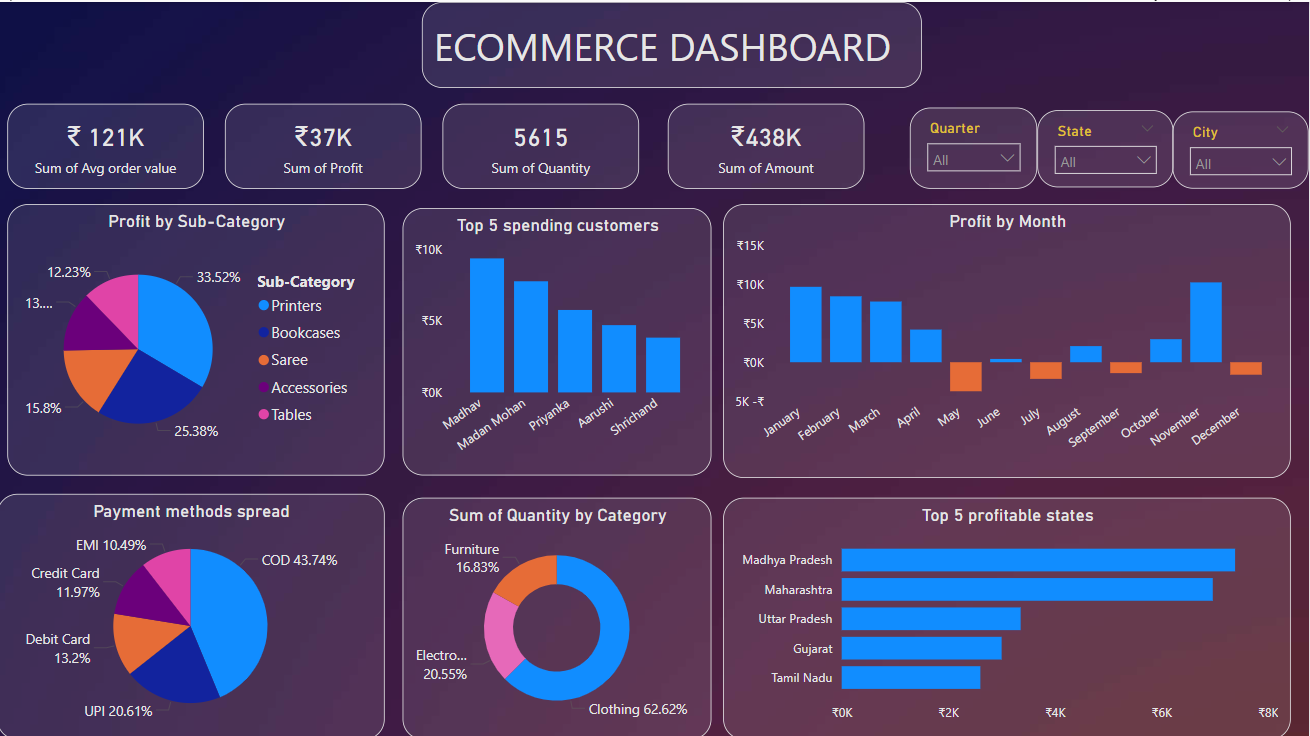

Layout of this report page (visuals, bound fields, positions):
{"tool":"powerbi","page":{"name":"Page 1","canvas":[1280,720],"ordinal":0},"visuals":[{"type":"columnChart","title":"Profit by Month","fields":{"Y":["Details.Profit"],"Category":["Orders.Order Date.Variation.Date Hierarchy.Month"]},"box":[708.5,197.2,554,267.6],"z":0},{"type":"pieChart","title":" Profit by Sub-Category","fields":{"Category":["Details.Sub-Category"],"Y":["Details.Profit"]},"box":[10,197.2,368,265],"z":1000},{"type":"donutChart","fields":{"Y":["Details.Quantity"],"Category":["Details.Category"]},"box":[395.7,483.6,301.5,236.2],"z":2000},{"type":"pieChart","title":"Payment methods spread ","fields":{"Category":["Details.PaymentMode"],"Series":["Details.PaymentMode"],"Y":["Details.Quantity"]},"box":[0,479.8,378.1,239.9],"z":3000},{"type":"card","fields":{"Values":["Details.Avg order value"]},"box":[10,99.2,192.2,82.9],"z":4000},{"type":"card","fields":{"Values":["Details.Profit"]},"box":[222.3,99.2,192.2,82.9],"z":5000},{"type":"card","fields":{"Values":["Details.Quantity"]},"box":[434.6,99.2,192.2,82.9],"z":6000},{"type":"card","fields":{"Values":["Details.Amount"]},"box":[654.4,99.2,192.2,82.9],"z":7000},{"type":"barChart","title":"Top 5 profitable states","fields":{"Category":["Orders.State"],"Y":["Details.Profit"]},"box":[708.5,483.6,554,236.2],"z":8000},{"type":"columnChart","title":"Top 5 spending customers","fields":{"Category":["Orders.CustomerName"],"Y":["Details.Amount"]},"box":[395.7,201,301.5,261.3],"z":9000},{"type":"slicer","fields":{"Values":["Orders.Order Date.Variation.Date Hierarchy.Quarter"]},"box":[890.6,103,124.4,79.1],"z":10000},{"type":"slicer","fields":{"Values":["Orders.State"]},"box":[1015,105.5,133.2,75.4],"z":11000},{"type":"slicer","fields":{"Values":["Orders.City"]},"box":[1146.8,106.8,133.2,75.4],"z":12000},{"type":"textbox","box":[414.5,0,487.4,84.2],"z":13001}]}

Visuals, with their boxes in screenshot pixels (x1, y1, x2, y2), scaled from the page's 1280x720 canvas onto the 1310x736 screenshot:
"Profit by Month" columnChart: {"x1": 725, "y1": 202, "x2": 1292, "y2": 475}
" Profit by Sub-Category" pieChart: {"x1": 10, "y1": 202, "x2": 387, "y2": 472}
donutChart - Details.Quantity x Details.Category: {"x1": 405, "y1": 494, "x2": 714, "y2": 735}
"Payment methods spread " pieChart: {"x1": 0, "y1": 490, "x2": 387, "y2": 735}
card - Details.Avg order value: {"x1": 10, "y1": 101, "x2": 207, "y2": 186}
card - Details.Profit: {"x1": 228, "y1": 101, "x2": 424, "y2": 186}
card - Details.Quantity: {"x1": 445, "y1": 101, "x2": 641, "y2": 186}
card - Details.Amount: {"x1": 670, "y1": 101, "x2": 866, "y2": 186}
"Top 5 profitable states" barChart: {"x1": 725, "y1": 494, "x2": 1292, "y2": 735}
"Top 5 spending customers" columnChart: {"x1": 405, "y1": 205, "x2": 714, "y2": 473}
slicer - Orders.Order Date.Variation.Date Hierarchy.Quarter: {"x1": 911, "y1": 105, "x2": 1039, "y2": 186}
slicer - Orders.State: {"x1": 1039, "y1": 108, "x2": 1175, "y2": 185}
slicer - Orders.City: {"x1": 1174, "y1": 109, "x2": 1309, "y2": 186}
textbox: {"x1": 424, "y1": 0, "x2": 923, "y2": 86}
